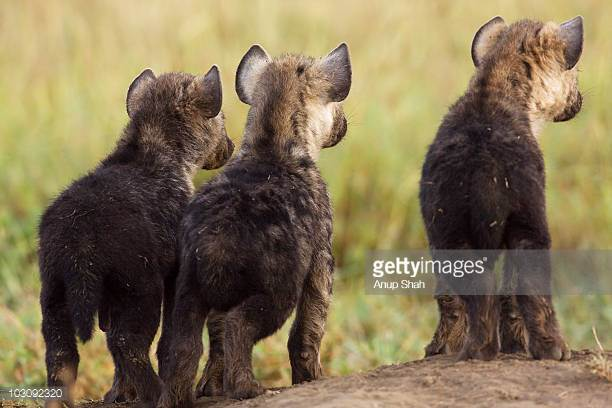hyena: (165, 39, 354, 408), (33, 67, 235, 408), (420, 12, 589, 365)
